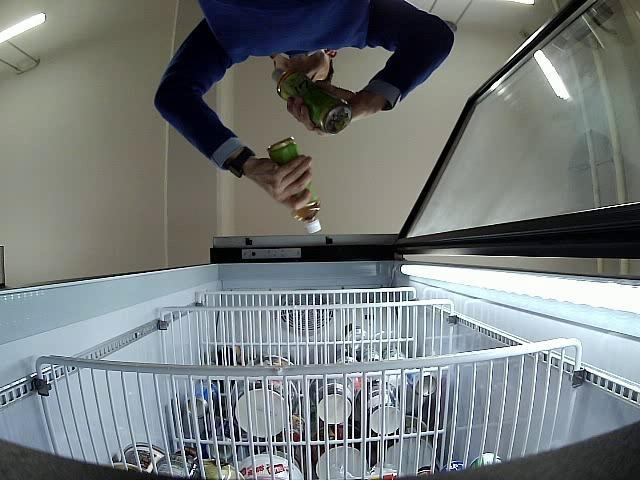19_17cha: (266, 136, 322, 234), (272, 68, 354, 134)
